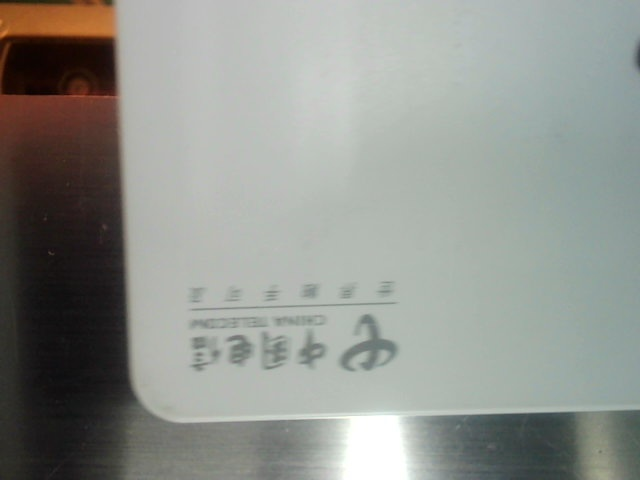AB_ChinaTelecom: (185, 277, 409, 373)
